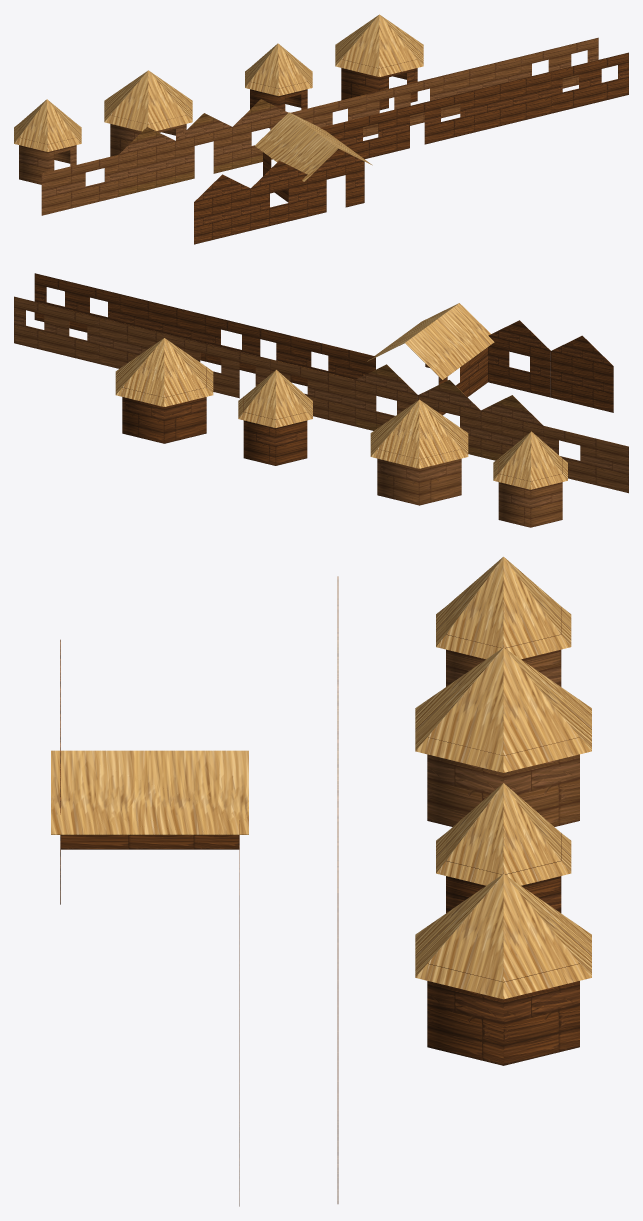
File: Houses_Village.FBX
3 renders of one model, top to bottom at view 1: azimuth 30°, elevation 25°; view 2: azimuth 150°, elevation 25°; view 3: azimuth 270°, elevation 25°, orthographic. The views are drawn at different scales.
Parts seen in each view (by area): view 1: Object007, Object013, Plane072, Object004, Plane074, Object011, Object003, Plane073, Object002, Plane070, Object010, Object008 (+12 smaller); view 2: Object013, Object007, Object004, Object003, Plane078, Object002, Cylinder002, Cylinder004, Plane074, Object014, Object008, Plane075 (+12 smaller); view 3: Object004, Object007, Object013, Cylinder002, Object008, Object014, Cylinder004, Plane062, Cylinder001, Cylinder003.
Boxes of the visible parts, x1,y1,x2,y2 form: Object007: [335, 14, 423, 76]; Object013: [104, 70, 192, 131]; Plane072: [474, 71, 551, 132]; Object004: [255, 112, 372, 181]; Plane074: [41, 154, 118, 215]; Object011: [119, 127, 175, 196]; Object003: [194, 174, 250, 244]; Plane073: [551, 52, 628, 113]; Object002: [251, 160, 307, 230]; Plane070: [397, 90, 474, 151]; Object010: [175, 113, 232, 182]; Object008: [245, 43, 312, 95]; Object013: [370, 399, 468, 468]; Object007: [115, 338, 213, 406]; Object004: [367, 303, 494, 379]; Object003: [551, 335, 613, 412]; Plane078: [14, 296, 99, 363]; Object002: [488, 320, 550, 397]; Cylinder002: [122, 367, 206, 443]; Cylinder004: [377, 449, 461, 505]; Plane074: [543, 426, 628, 493]; Object014: [493, 431, 567, 489]; Object008: [238, 370, 312, 427]; Plane075: [270, 359, 355, 426]; Object004: [51, 750, 248, 834]; Object007: [415, 874, 591, 999]; Object013: [415, 647, 591, 772]; Cylinder002: [427, 963, 579, 1065]; Object008: [436, 783, 571, 885]; Object014: [436, 556, 571, 659]; Cylinder004: [427, 737, 579, 826]; Plane062: [61, 835, 239, 849]; Cylinder001: [446, 833, 561, 912]; Cylinder003: [446, 606, 561, 686].
Bounding box in the file's own units: 5323 × 2216 × 714.
Materials: 6 (6 with a texture image).
